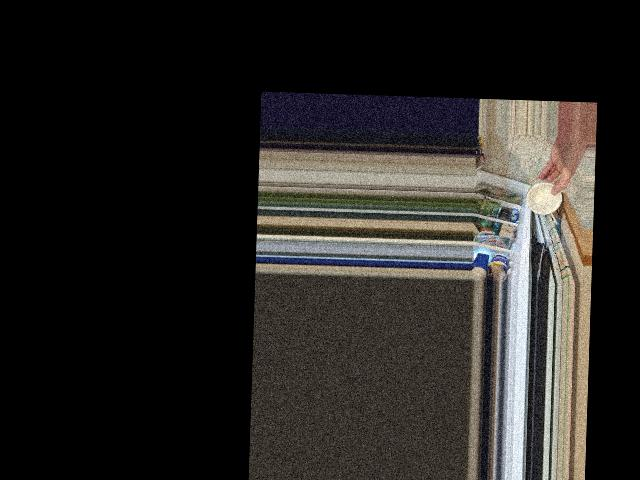cotage: (524, 182, 560, 219)
